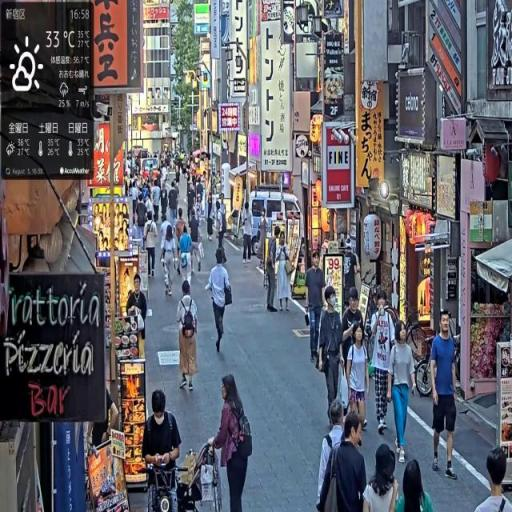person: (212, 372, 256, 512), (429, 307, 461, 482), (368, 286, 401, 442), (141, 386, 184, 484), (329, 410, 369, 512), (388, 321, 417, 460), (318, 287, 344, 429), (318, 399, 347, 512), (346, 323, 371, 442), (340, 291, 365, 409), (207, 249, 234, 355), (363, 443, 404, 512), (306, 250, 328, 368), (177, 280, 200, 391), (475, 449, 512, 512), (161, 223, 179, 302), (276, 233, 293, 315), (266, 225, 280, 315), (190, 210, 205, 277), (145, 212, 159, 283), (179, 223, 194, 286), (243, 203, 256, 265)
